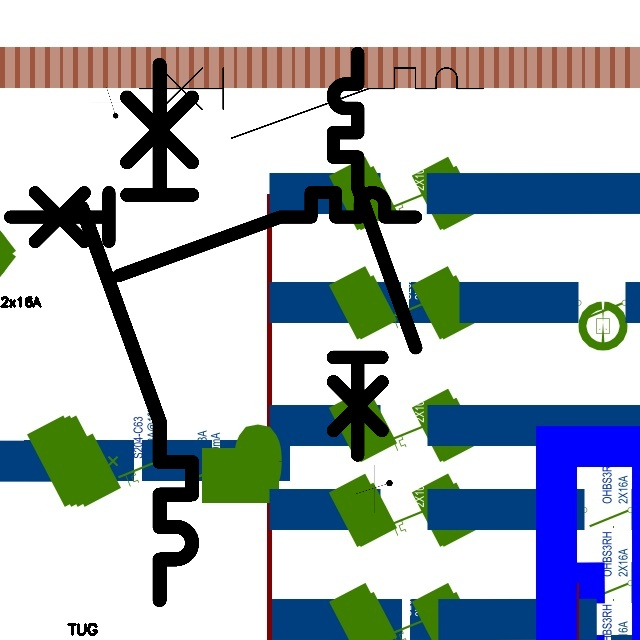interruptor_termomagnetico: (68, 51, 206, 614), (0, 182, 426, 286), (323, 43, 426, 465), (130, 59, 491, 147)
